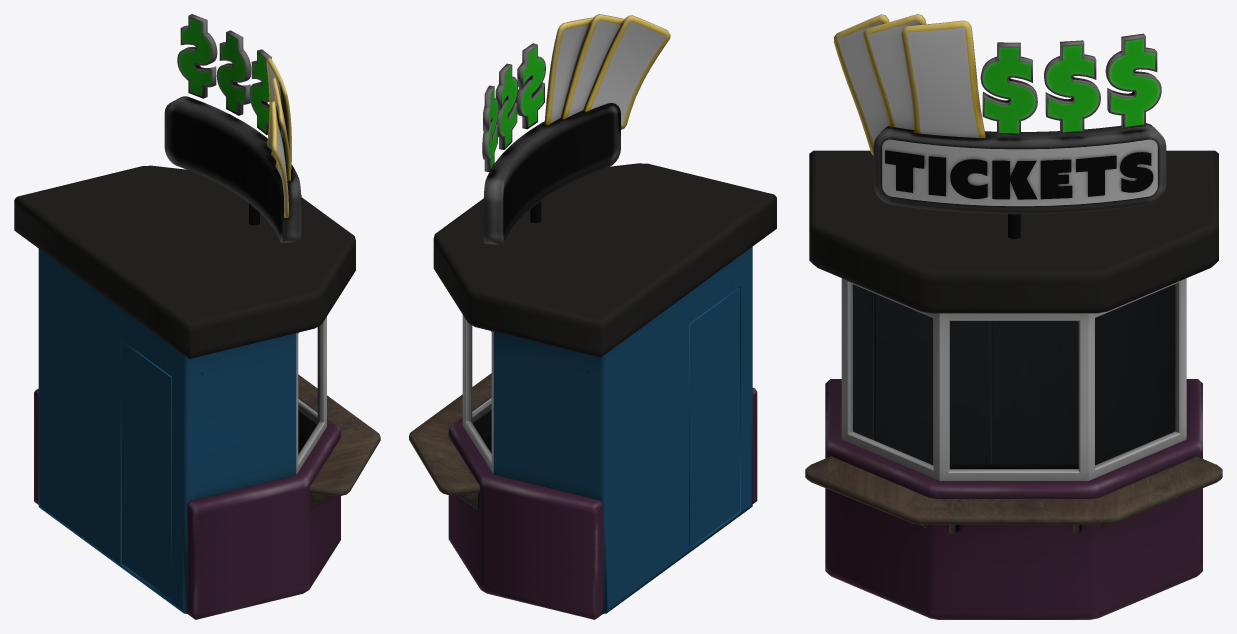
The model's file is ticket_booth_1_3.fbx.
3 views of the same model, side by side, from view 1: azimuth 30°, elevation 25°; view 2: azimuth 150°, elevation 25°; view 3: azimuth 270°, elevation 25° (orthographic). The views are drawn at different scales.
Visible parts, largest first — view 1: booth_1; view 2: booth_1; view 3: booth_1.
Boxes of the visible parts, left/top/right/bottom form: booth_1: left=14, top=14, right=380, bottom=619; booth_1: left=409, top=14, right=776, bottom=619; booth_1: left=805, top=14, right=1222, bottom=619.
Bounding box in the file's own units: 227 × 444 × 296.
